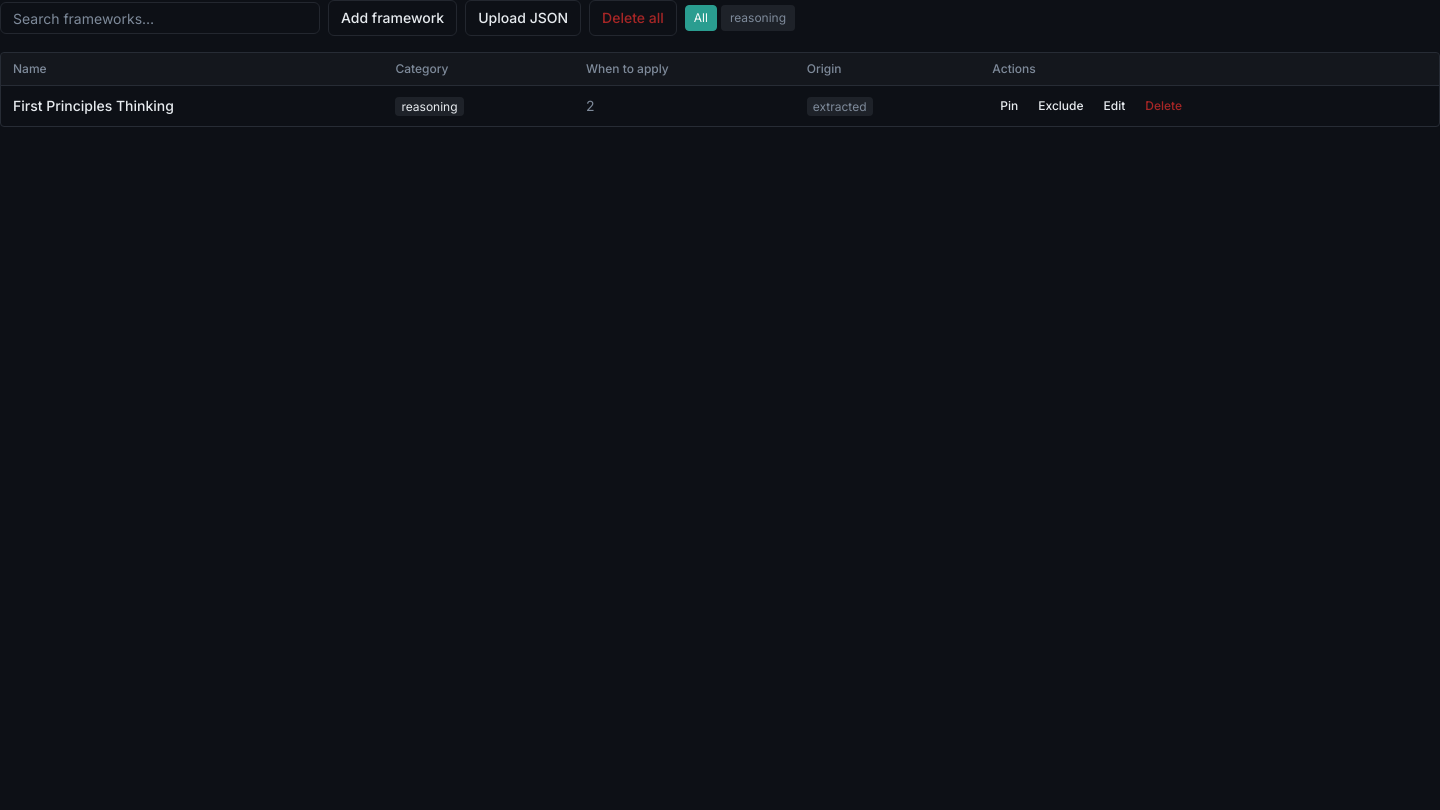
Test: FrameworkLibraryTab — KIN-320 (edit, add, upload) › edit form › save with no changes makes no PATCH request and closes form
Expected: the text "First Principles Thinking" is shown, [13, 97, 174, 114]
Click the button "Edit" at (1114, 106), box [1096, 94, 1133, 118]
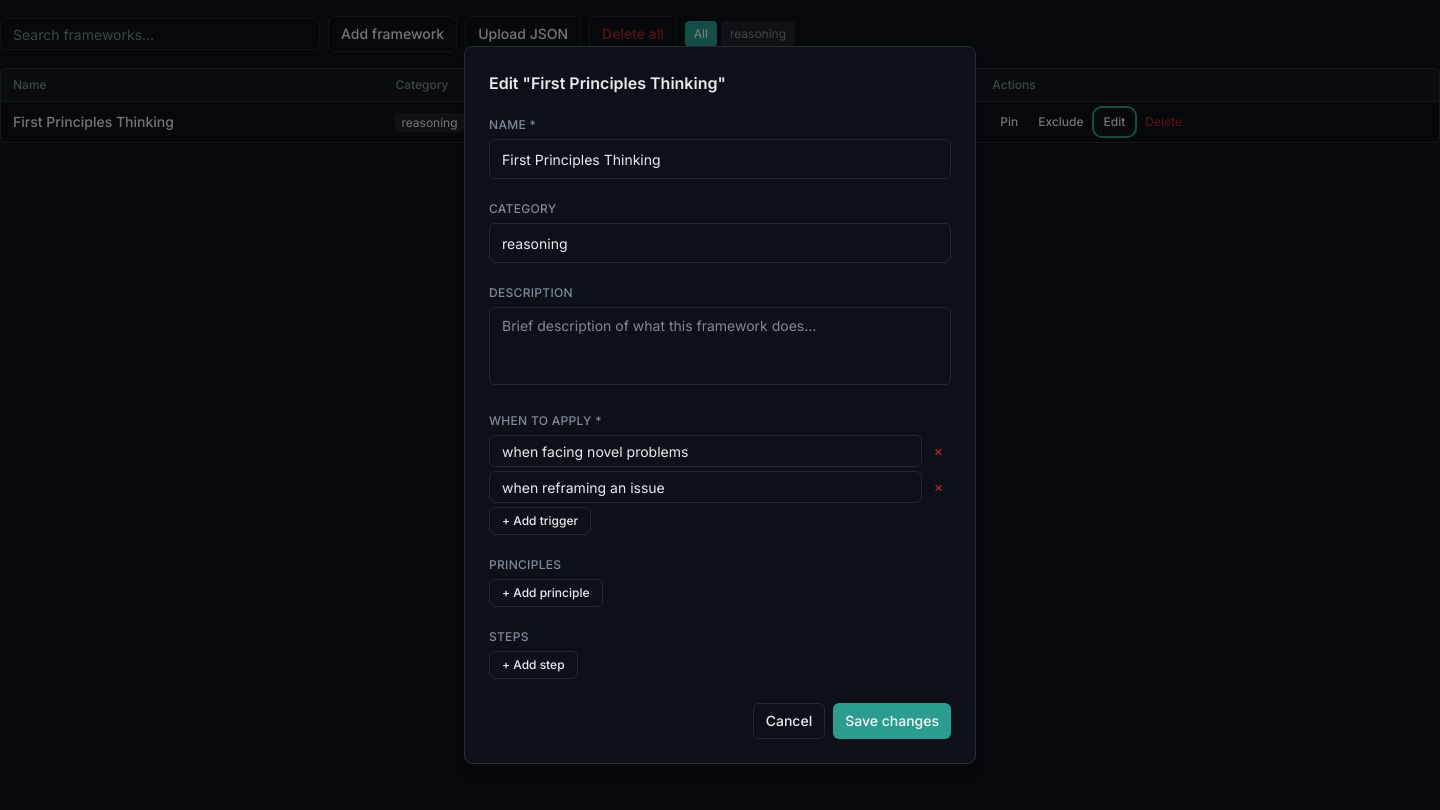
// Click Save immediately without changing anything
Click the button "Save changes" at (892, 721), box [833, 703, 951, 739]
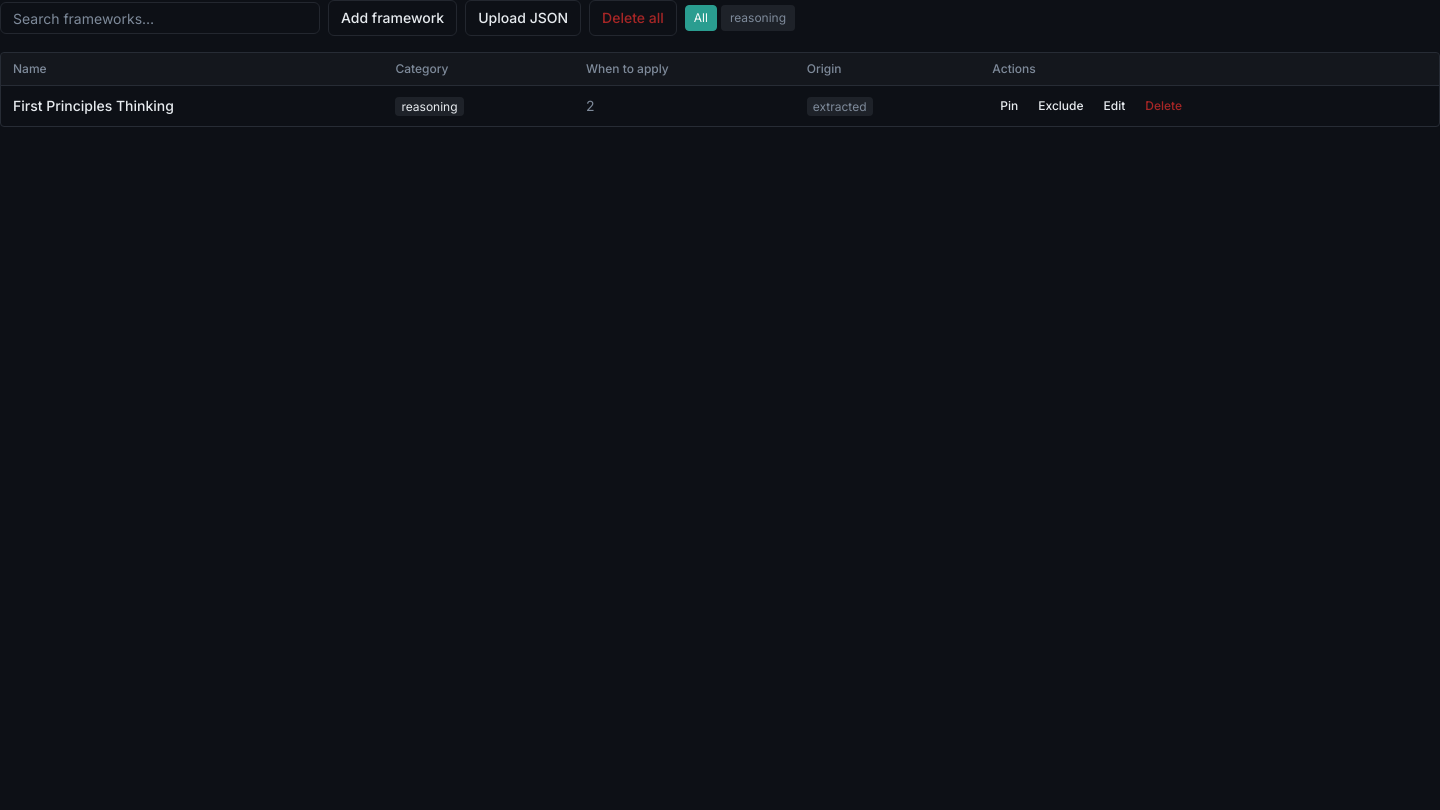
Now the heading "Edit \"First Principles Thinking\"" is gone
